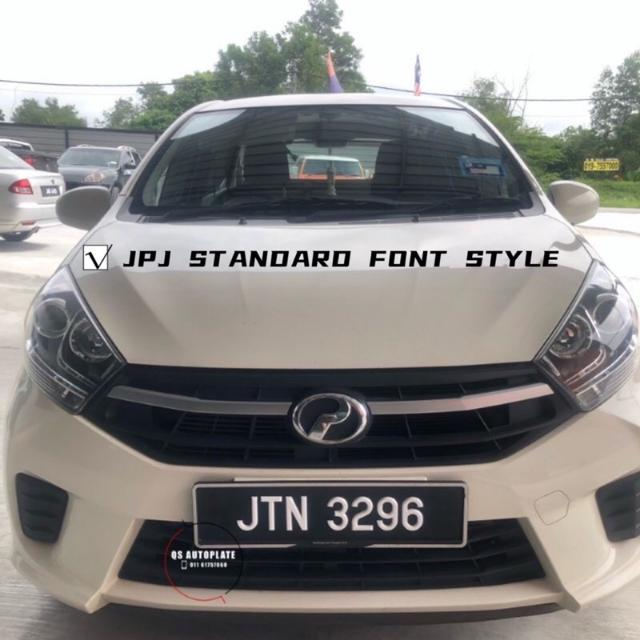License_Plate: (197, 478, 474, 562)
car: (8, 87, 640, 624)
